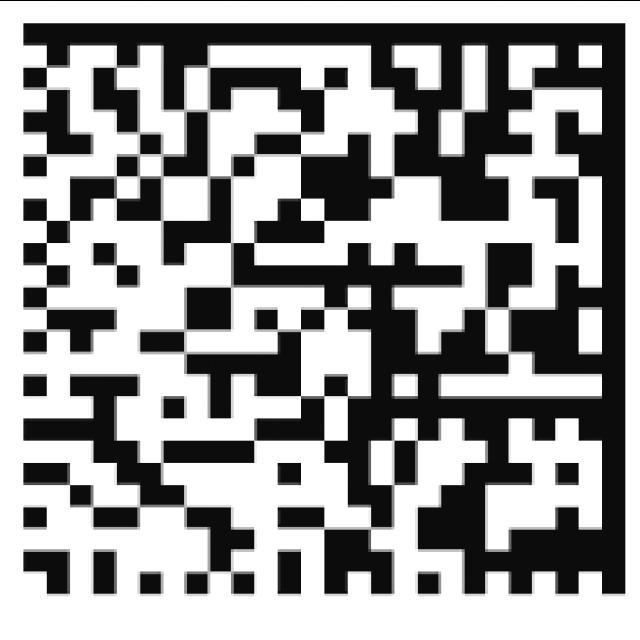Data-Matrix: (12, 11, 634, 607)
